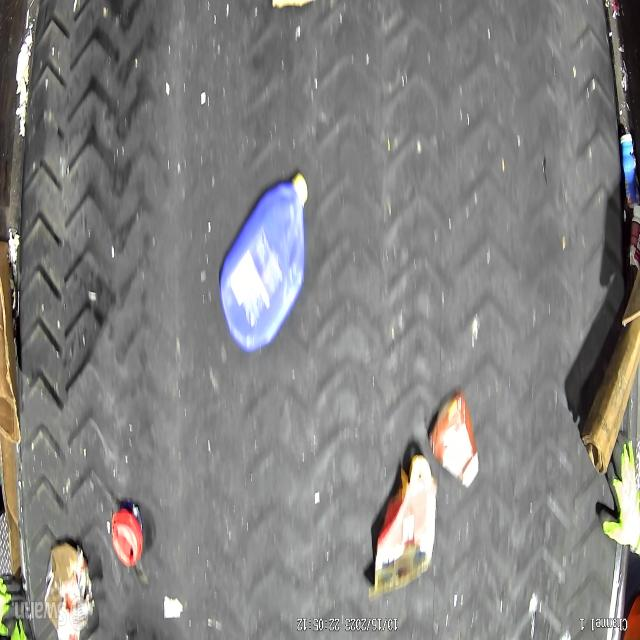non_white_jug: (216, 157, 314, 350)
